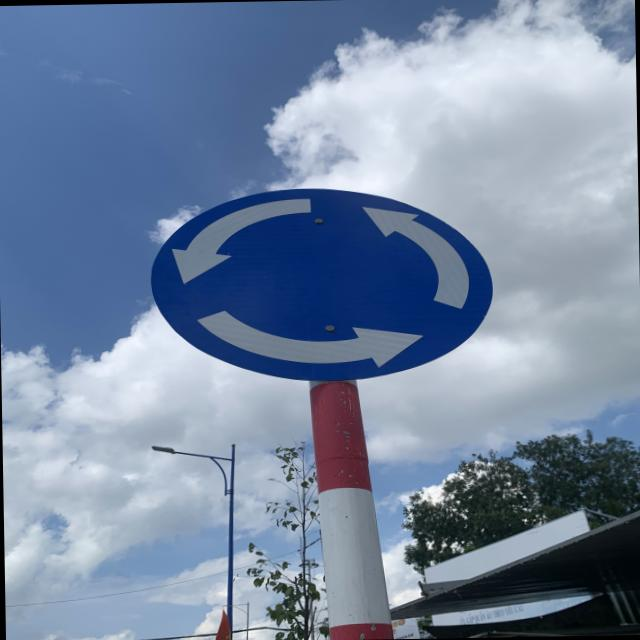Xe_Bus: (155, 178, 492, 380)
